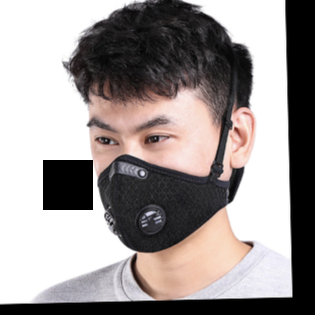with_mask: (87, 111, 232, 253)
